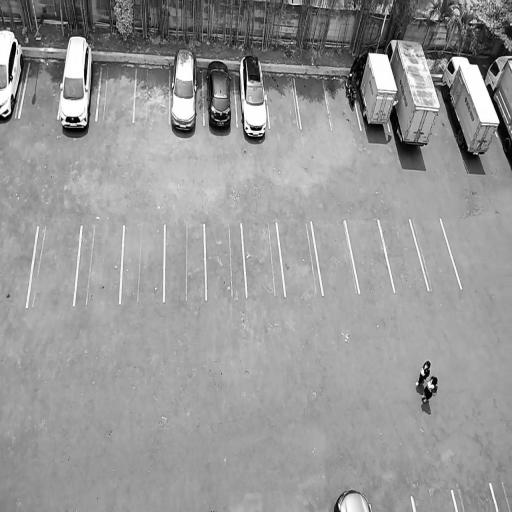Car: (434, 48, 503, 164), (385, 28, 443, 150), (350, 35, 399, 139), (56, 29, 100, 136), (483, 41, 512, 169), (0, 23, 30, 123), (237, 51, 268, 142), (170, 45, 200, 138), (205, 55, 233, 132), (330, 483, 372, 512)
Space Available: (27, 225, 82, 305), (75, 225, 124, 304), (120, 225, 166, 304), (313, 220, 360, 296), (347, 220, 395, 293), (412, 217, 460, 290), (380, 220, 428, 290), (0, 225, 38, 311), (278, 223, 322, 297), (165, 224, 205, 301), (205, 223, 246, 297), (243, 224, 285, 296), (19, 57, 64, 120), (97, 58, 138, 121), (134, 61, 169, 123), (265, 72, 302, 129), (296, 76, 330, 130), (453, 482, 498, 511), (413, 490, 457, 512), (370, 498, 414, 512)
